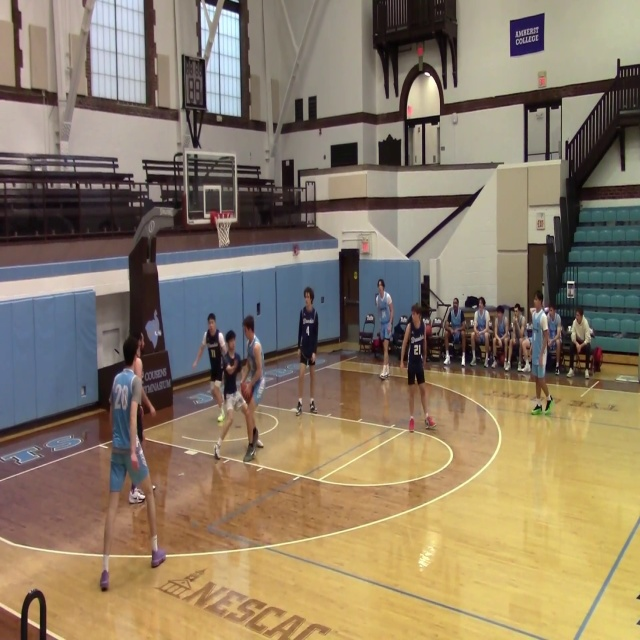Basketball: (240, 381, 252, 400), (521, 338, 530, 349), (381, 313, 388, 322)
